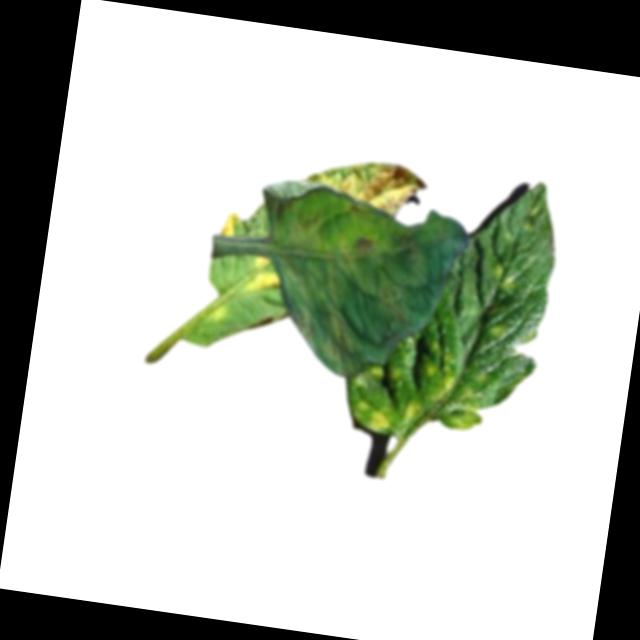Leaf_Mold: (302, 148, 428, 218), (363, 274, 421, 359), (315, 308, 359, 371), (238, 252, 284, 295), (349, 392, 394, 433), (345, 226, 374, 255), (399, 396, 427, 425), (218, 209, 245, 236)
